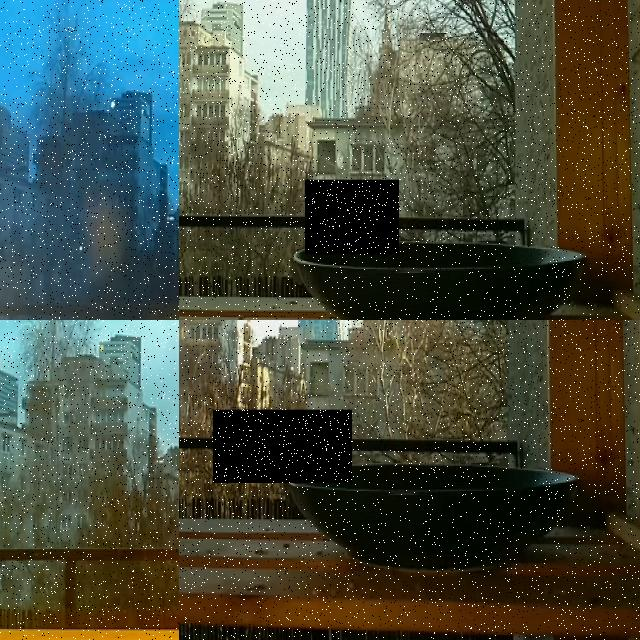Modraszka: (213, 410, 352, 483)
Wrobel: (305, 180, 399, 254)
